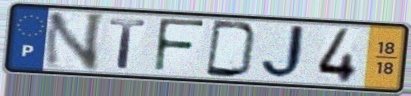4: (315, 26, 359, 86)
D: (202, 18, 261, 80)
F: (152, 16, 208, 76)
J: (259, 23, 313, 82)
N: (41, 11, 108, 73)
T: (107, 17, 149, 70)
